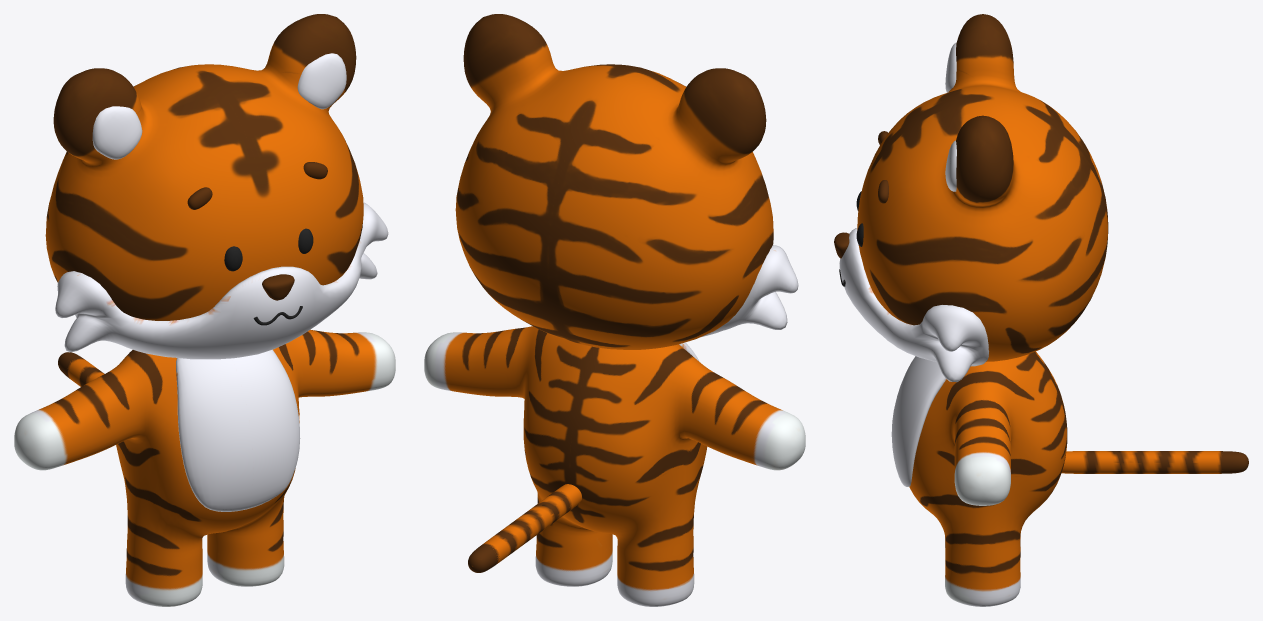
File: tiger.glb
The picture shows the model from 3 angles, left to right: view 1: azimuth 30°, elevation 25°; view 2: azimuth 150°, elevation 25°; view 3: azimuth 270°, elevation 25°; orthographic projection. The views are drawn at different scales.
Parts seen in each view (by area): view 1: head_1, body_0, body 2_4, head 2_2, ear 2_3, tail_9, eyebrown_6, eyes_5, nose_7; view 2: head_1, body_0, tail_9, head 2_2; view 3: head_1, body_0, head 2_2, tail_9, body 2_4, ear 2_3.
Boxes of the visible parts, <box> form: head_1: <box>45,14,363,320</box>; body_0: <box>14,329,395,606</box>; body 2_4: <box>176,349,300,511</box>; head 2_2: <box>55,202,388,359</box>; ear 2_3: <box>92,53,346,159</box>; tail_9: <box>58,352,104,386</box>; eyebrown_6: <box>187,162,327,209</box>; eyes_5: <box>224,228,313,271</box>; nose_7: <box>262,274,294,300</box>; head_1: <box>455,14,773,349</box>; body_0: <box>424,326,805,606</box>; tail_9: <box>468,484,581,572</box>; head 2_2: <box>701,245,798,336</box>; head_1: <box>857,14,1108,361</box>; body_0: <box>909,351,1067,606</box>; head 2_2: <box>839,228,988,382</box>; tail_9: <box>1061,451,1248,473</box>; body 2_4: <box>891,356,946,486</box>; ear 2_3: <box>945,42,956,191</box>.
Size of the model in its own units: 2.58 by 3.57 by 2.65.
Materials: 6 (4 with a texture image).
